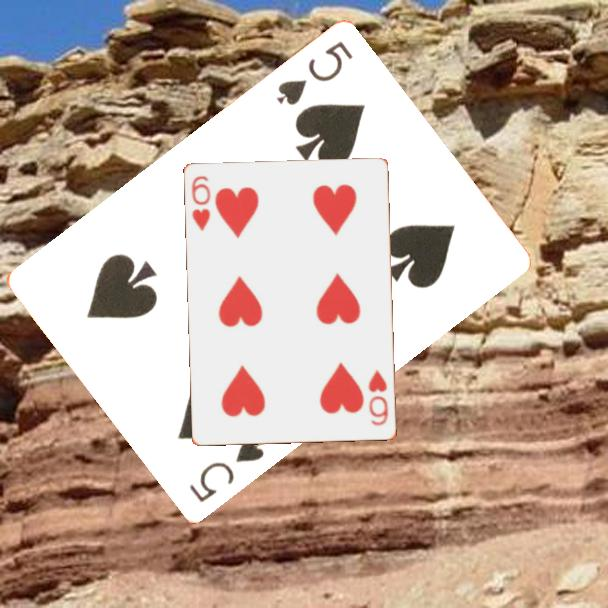h06: (365, 366, 391, 429), (188, 173, 214, 234)
s05: (185, 434, 268, 507), (272, 38, 356, 109)
